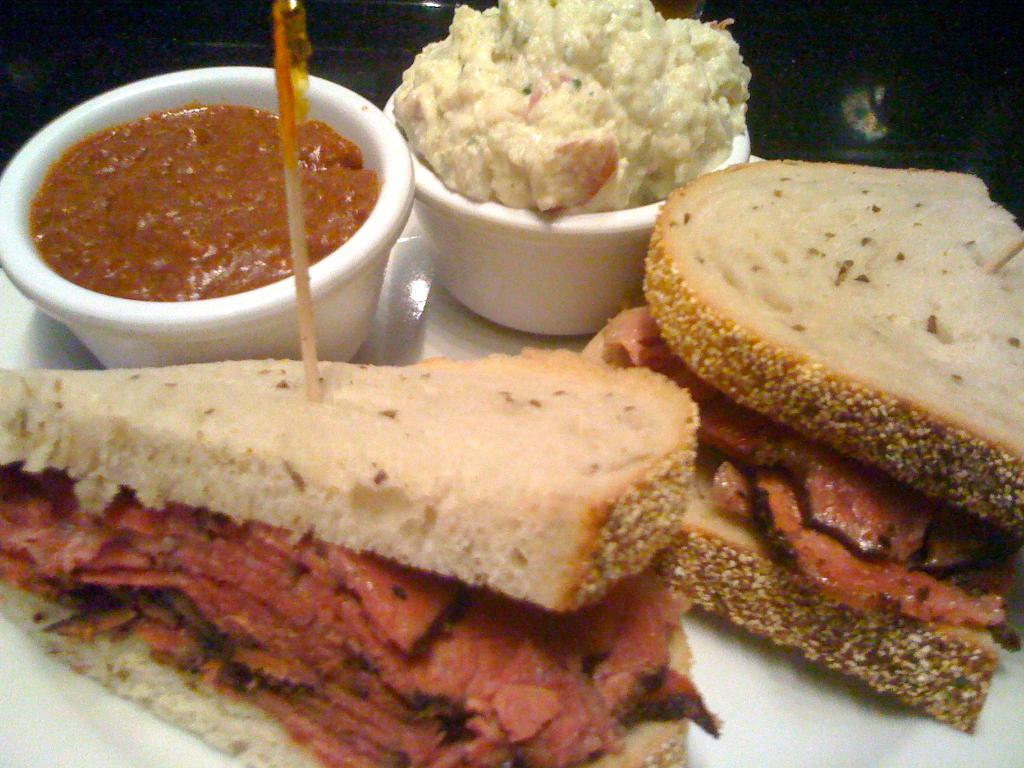sandwich: (0, 344, 723, 767), (578, 155, 1023, 739)
